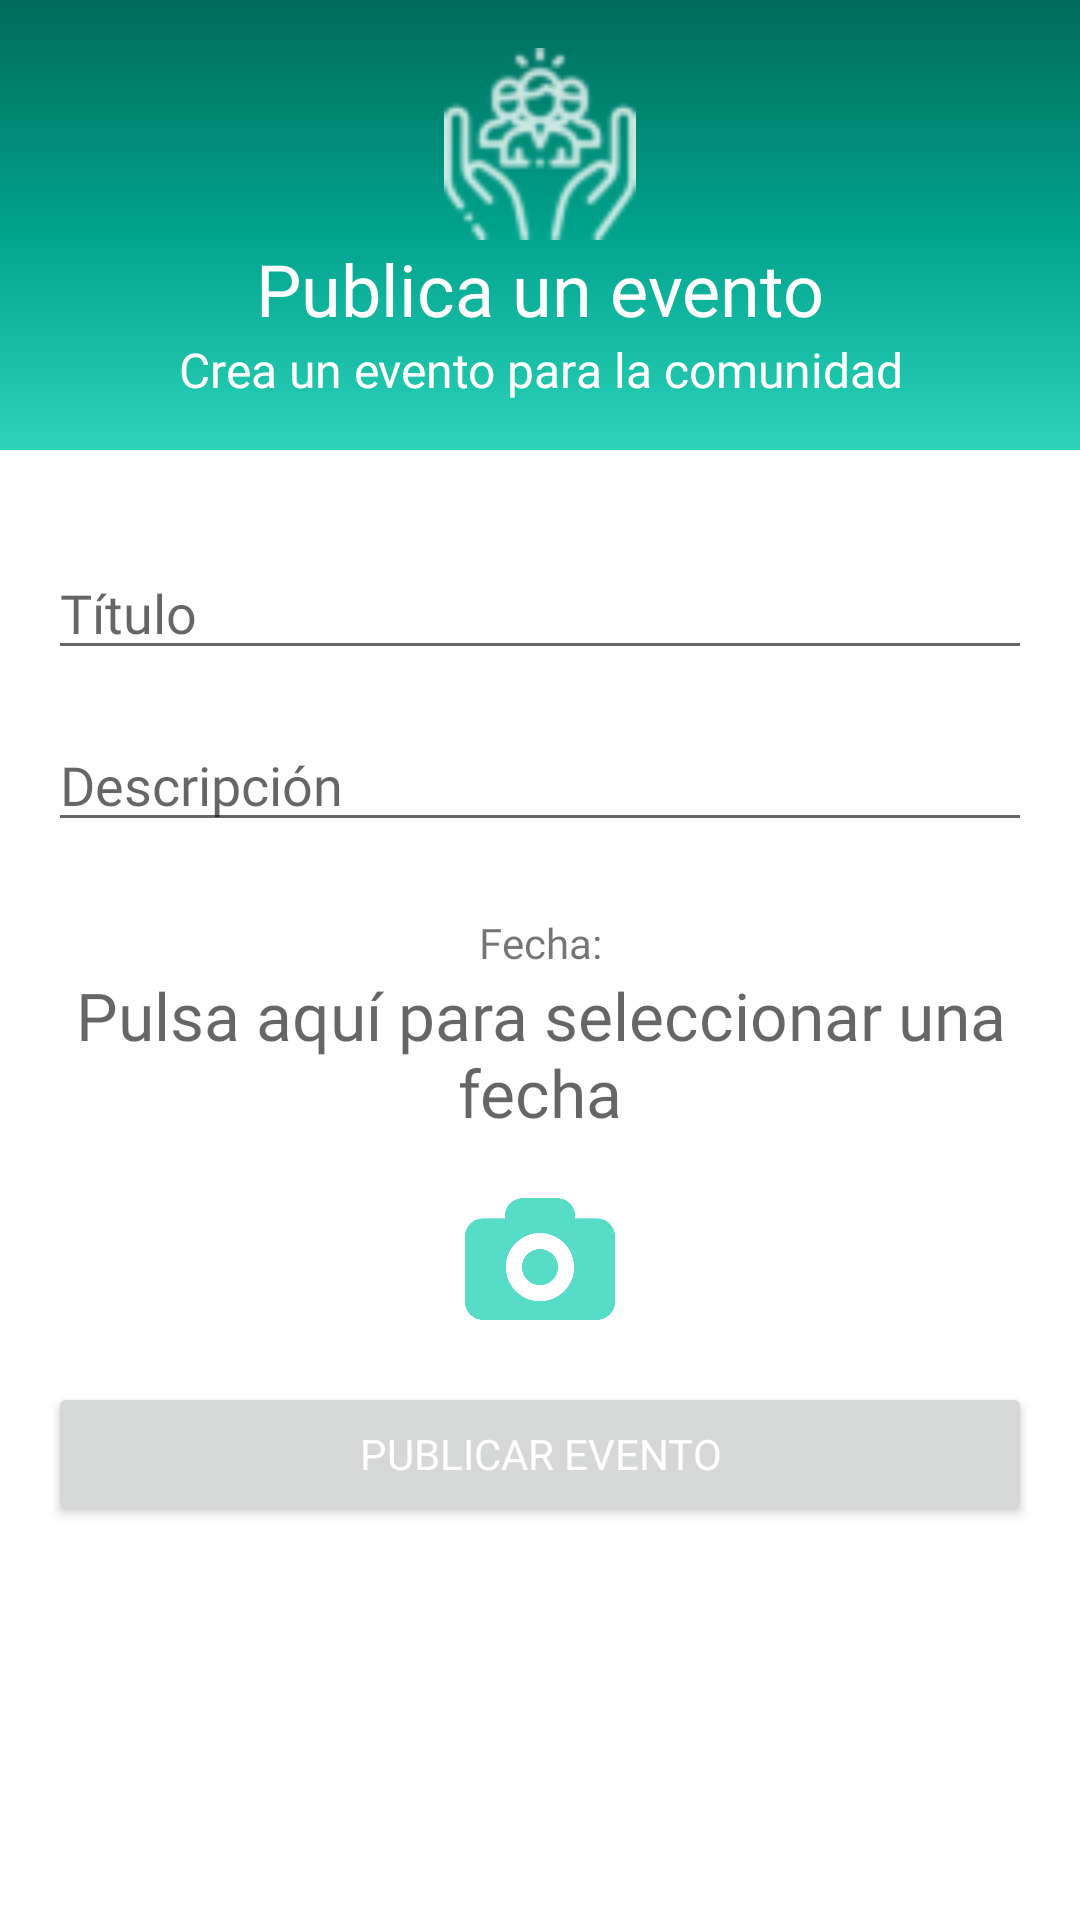

Where to tap for icons on this 1080×1920 app screen, as [x,y]:
camera: [540,1259]
